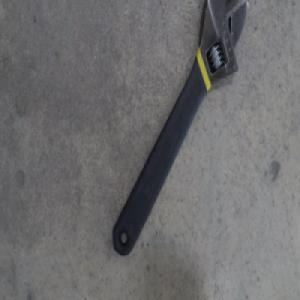AdjustableWrench: (113, 3, 245, 257)
